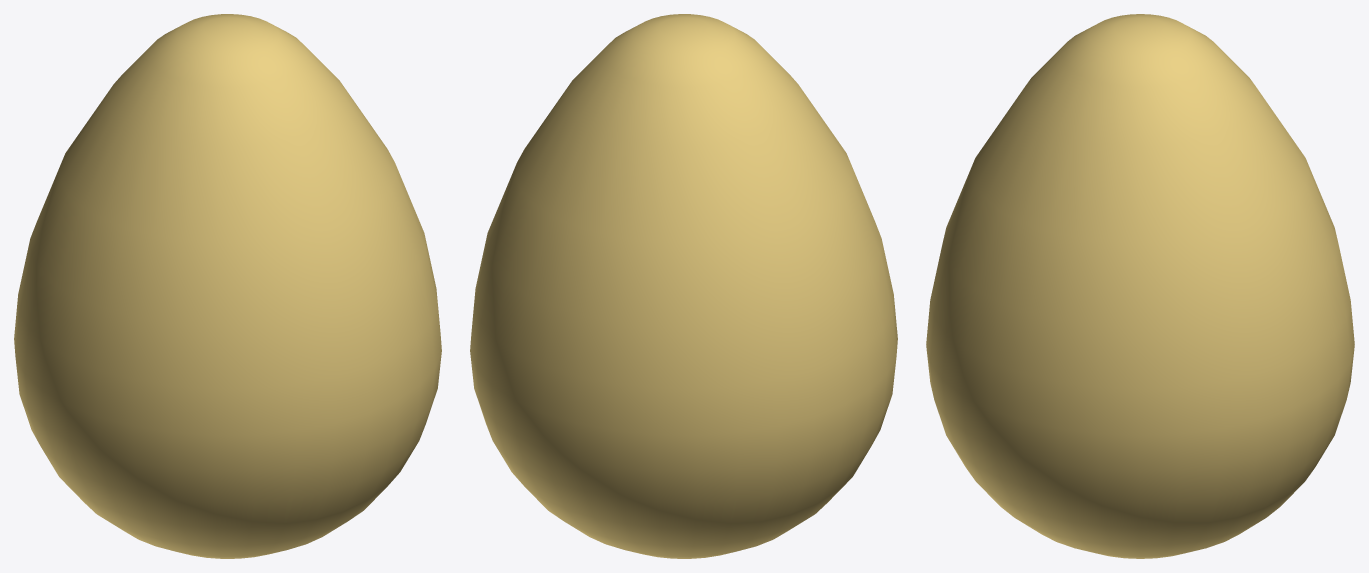
File: egg.obj
The picture shows the model from 3 angles, left to right: view 1: azimuth 30°, elevation 25°; view 2: azimuth 150°, elevation 25°; view 3: azimuth 270°, elevation 25°; orthographic projection.
Visible parts, largest first — view 1: egg; view 2: egg; view 3: egg.
Part boxes in pixels (bbox=[...]): egg: bbox=[14, 14, 441, 558]; egg: bbox=[470, 14, 897, 558]; egg: bbox=[926, 14, 1354, 558].
Bounding box in the file's own units: 0.9504 × 1.25 × 0.9504.
